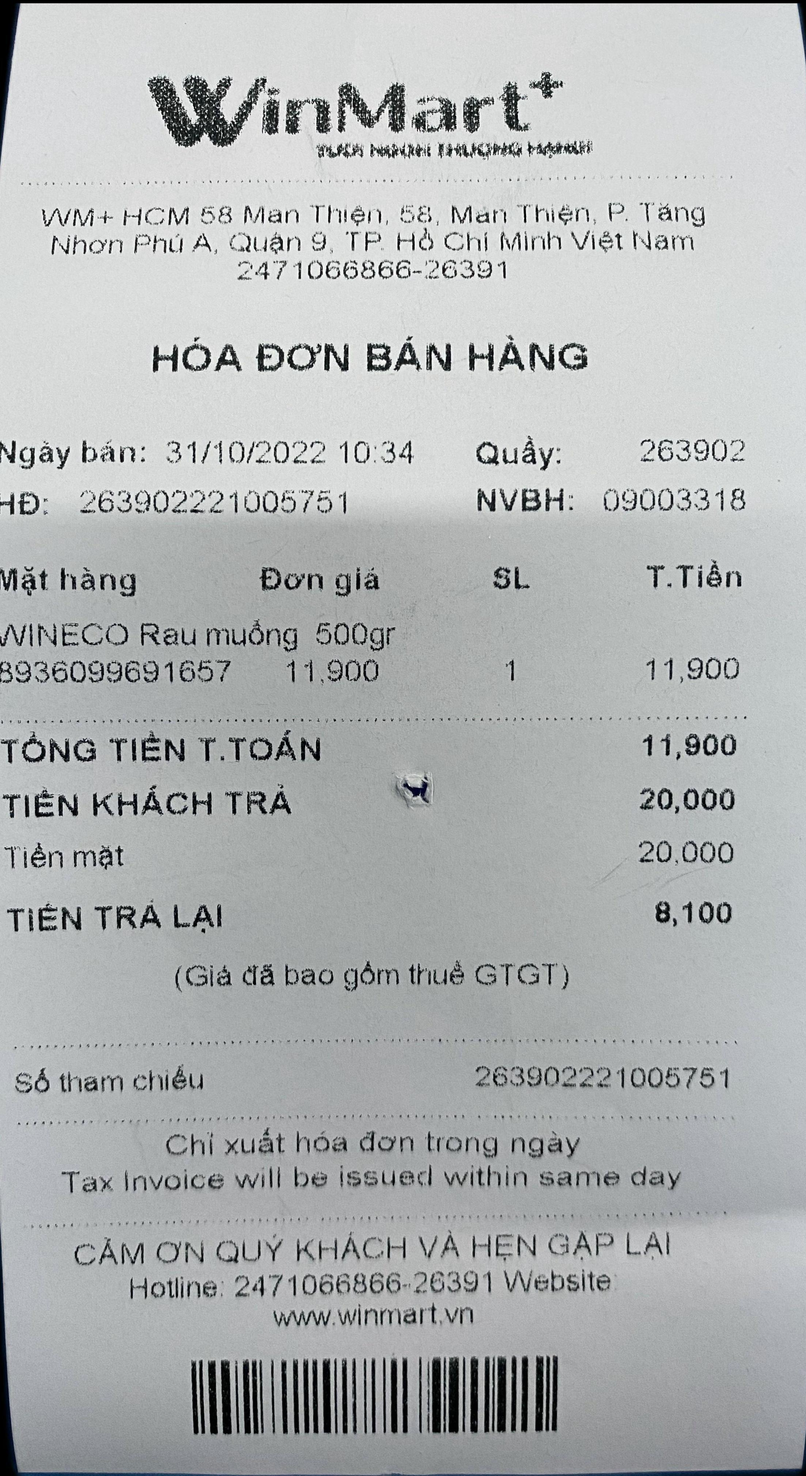Date: (150, 423, 339, 477)
Store_Name: (119, 68, 613, 165)
Total_Amount: (0, 704, 760, 784)
